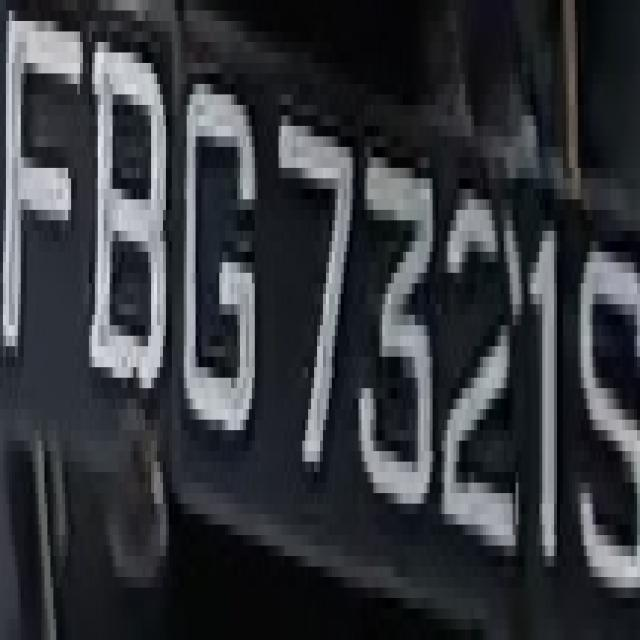1: (521, 199, 569, 598)
2: (438, 158, 534, 566)
3: (362, 126, 438, 514)
7: (272, 105, 352, 472)
B: (89, 52, 178, 398)
F: (15, 11, 86, 346)
G: (178, 53, 264, 430)
S: (575, 220, 637, 619)
